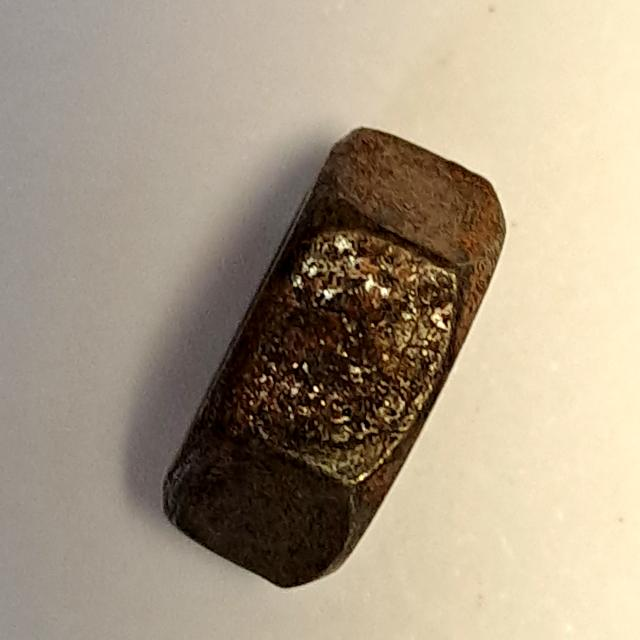Side_Rust: (149, 113, 516, 606)
